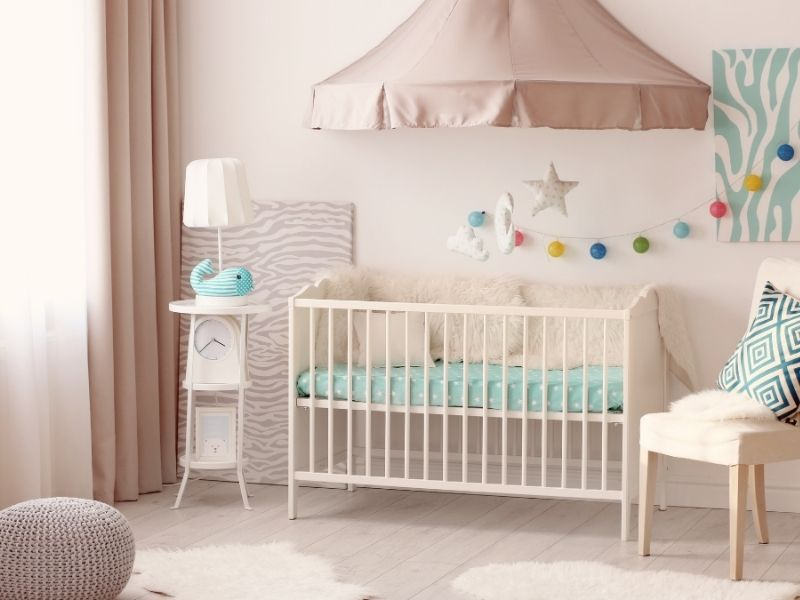crib: (288, 281, 666, 538)
